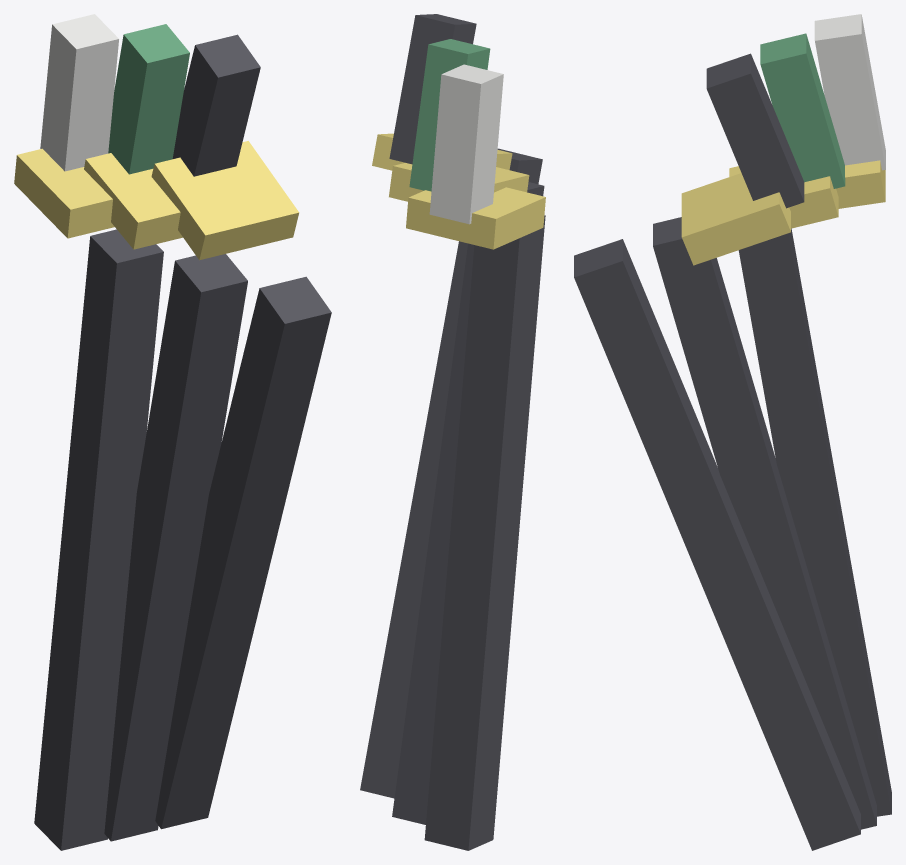
The model's file is espadas_zoro.glb.
3 views of the same model, side by side, from view 1: azimuth 30°, elevation 25°; view 2: azimuth 150°, elevation 25°; view 3: azimuth 270°, elevation 25° (orthographic). The views are drawn at different scales.
Parts seen in each view (by area): view 1: EspadasZoro; view 2: EspadasZoro; view 3: EspadasZoro.
Boxes of the visible parts, bbox=[...] form: EspadasZoro: bbox=[14, 14, 331, 850]; EspadasZoro: bbox=[360, 14, 545, 850]; EspadasZoro: bbox=[574, 14, 891, 850].
Bounding box in the file's own units: 0.21 × 0.9161 × 0.3351.
